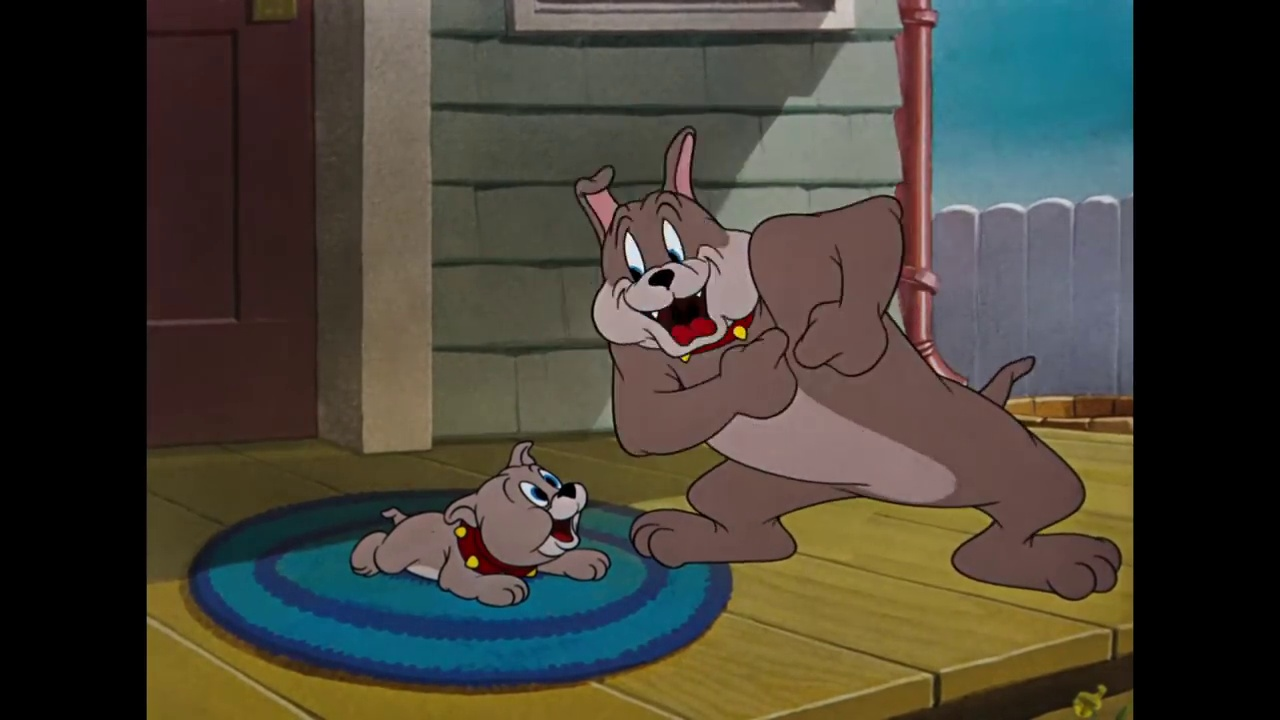spike: (575, 125, 763, 364)
